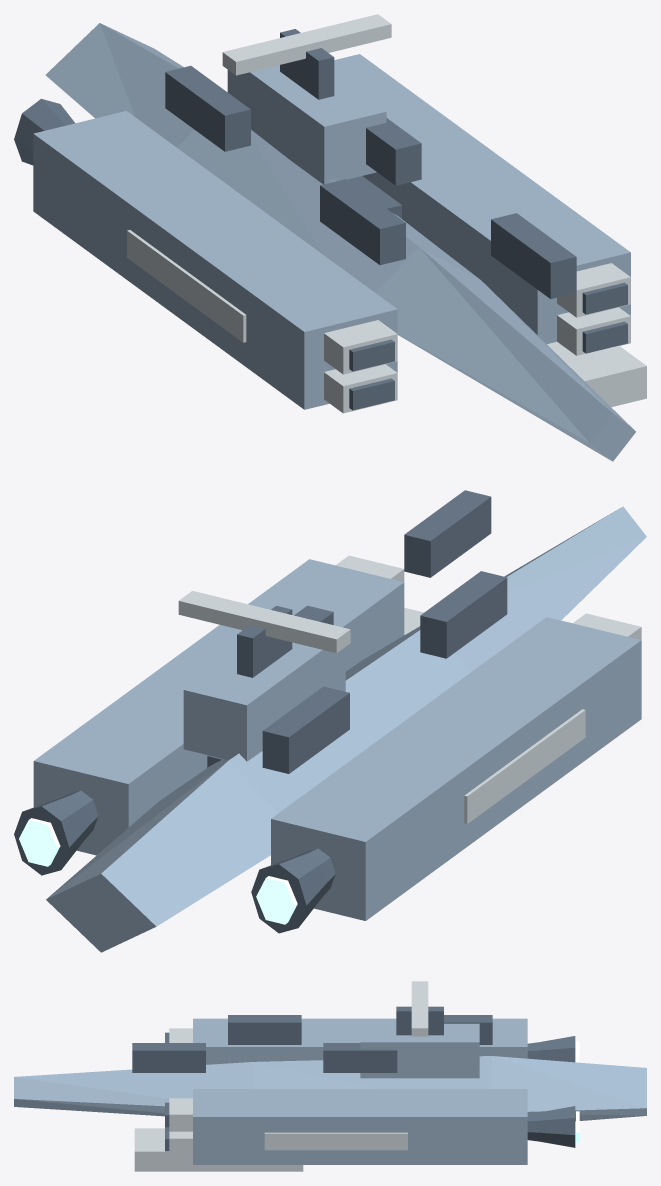
3 renders of one model, top to bottom at view 1: azimuth 30°, elevation 25°; view 2: azimuth 150°, elevation 25°; view 3: azimuth 270°, elevation 25°, orthographic. The views are drawn at different scales.
Bounding box in the file's own units: 7.71 × 4.82 × 20.6.
